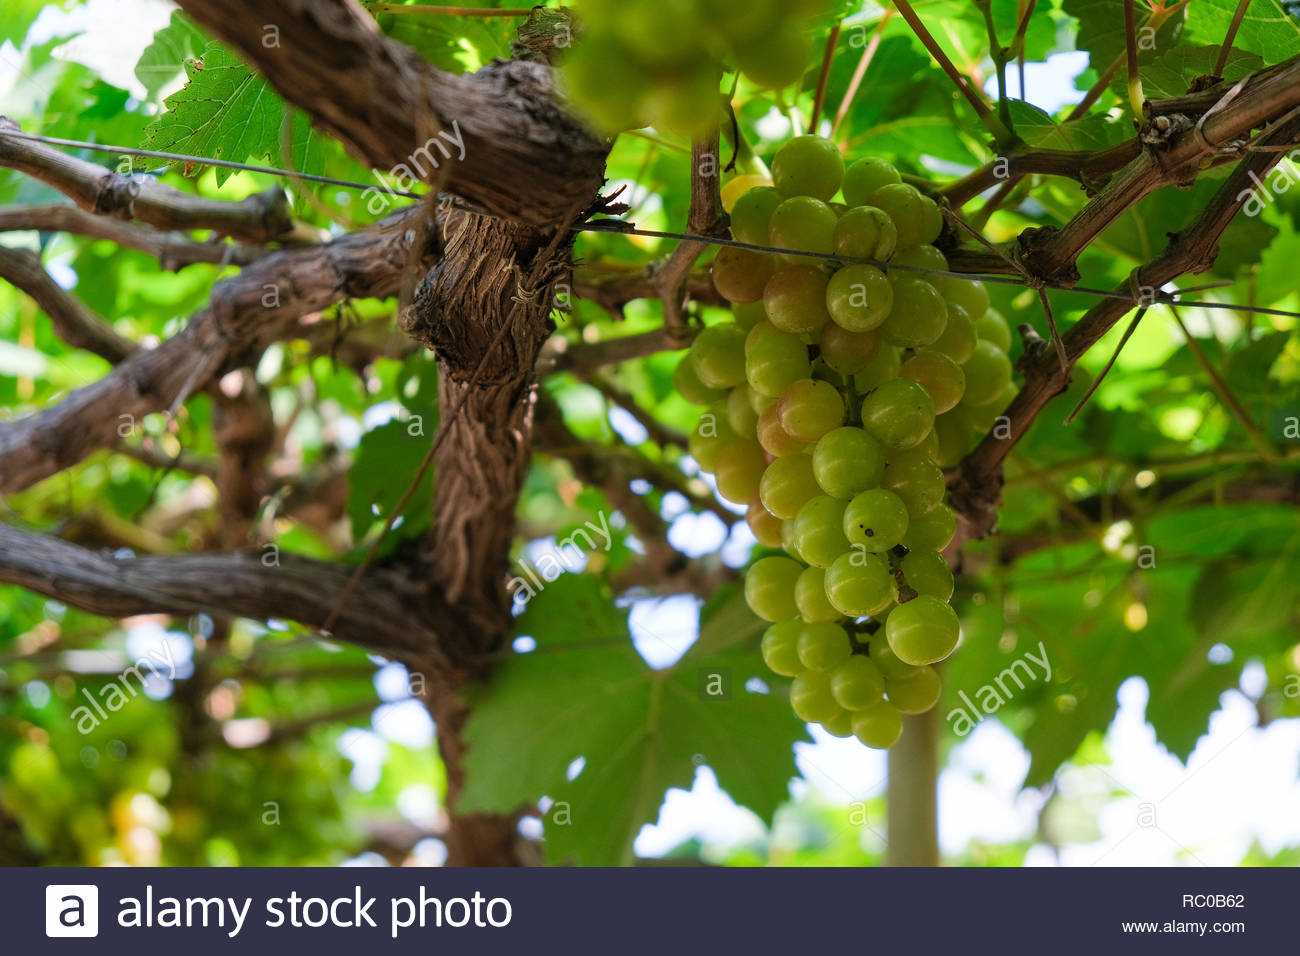grapes: (720, 123, 995, 763)
